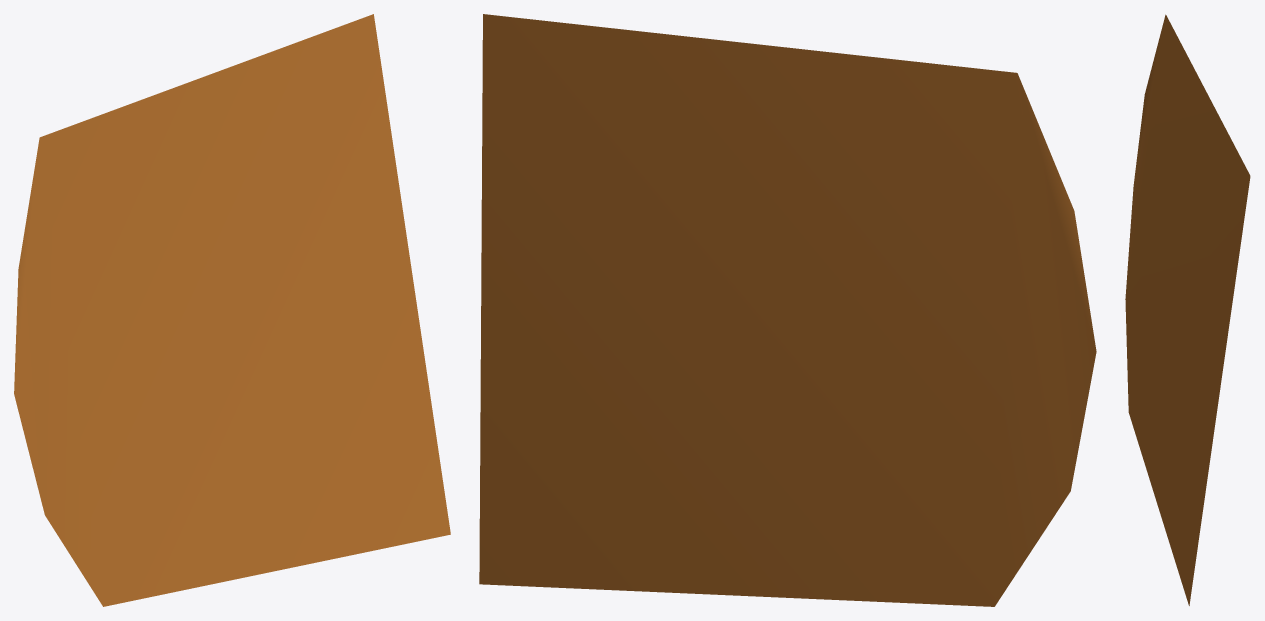
The picture shows the model from 3 angles, left to right: view 1: azimuth 30°, elevation 25°; view 2: azimuth 150°, elevation 25°; view 3: azimuth 270°, elevation 25°; orthographic projection. The views are drawn at different scales.
Parts seen in each view (by area): view 1: SubMesh0011; view 2: SubMesh0011; view 3: SubMesh0011.
Part boxes in pixels (bbox=[...]): SubMesh0011: bbox=[14, 14, 450, 606]; SubMesh0011: bbox=[479, 14, 1096, 606]; SubMesh0011: bbox=[1125, 14, 1250, 605].
Bounding box in the file's own units: 17.23 × 17.89 × 4.81.
